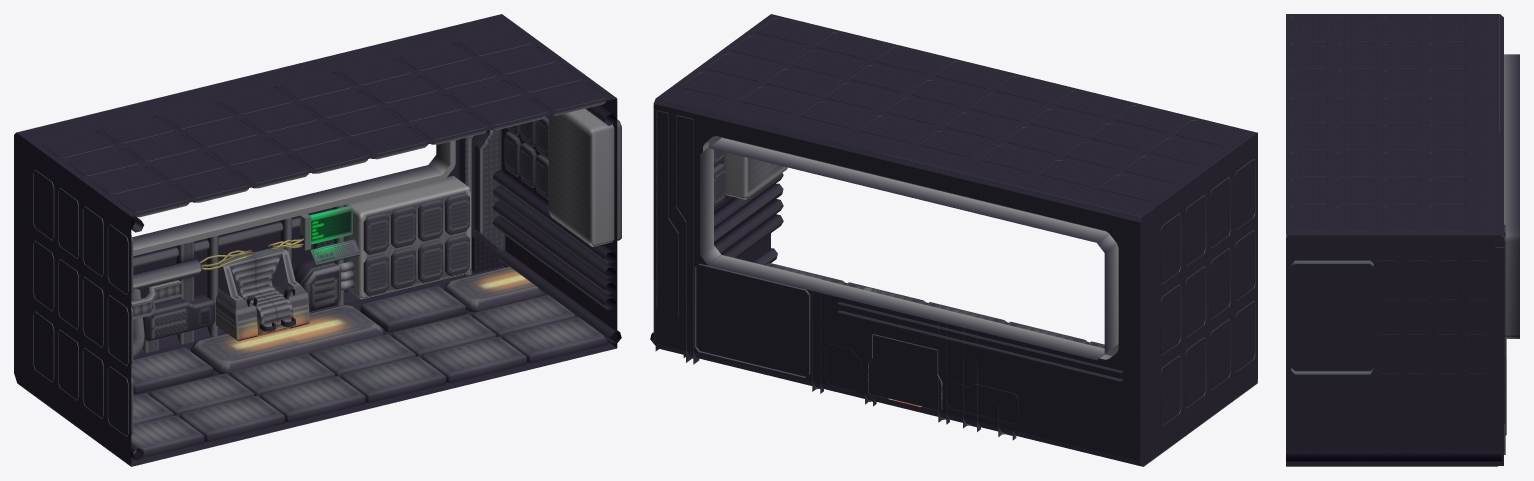
The model's file is Menu_Scene.fbx.
The picture shows the model from 3 angles, left to right: view 1: azimuth 30°, elevation 25°; view 2: azimuth 150°, elevation 25°; view 3: azimuth 270°, elevation 25°; orthographic projection. The views are drawn at different scales.
Visible parts, largest first — view 1: pCylinder7; view 2: pCylinder7; view 3: pCylinder7.
Boxes of the visible parts, bbox=[...] form: pCylinder7: bbox=[14, 14, 621, 466]; pCylinder7: bbox=[650, 14, 1257, 466]; pCylinder7: bbox=[1286, 14, 1519, 466].
Bounding box in the file's own units: 1710 × 842 × 755.
Materials: 1 (1 with a texture image).
